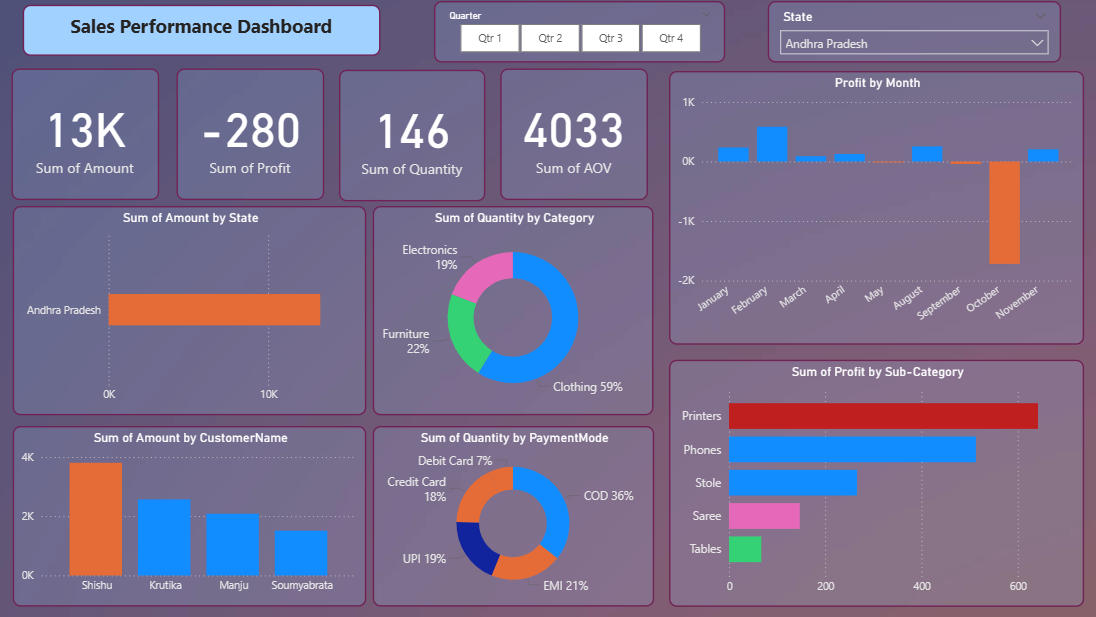

Layout of this report page (visuals, bound fields, positions):
{"tool":"powerbi","page":{"name":"Page 1","canvas":[1280,720],"ordinal":0},"visuals":[{"type":"columnChart","title":"Profit by Month","fields":{"Category":["Orders.Order Date.Variation.Date Hierarchy.Month"],"Y":["Sum(Details.Profit)"]},"box":[765,86,474,313],"z":0},{"type":"barChart","fields":{"Y":["Sum(Details.Profit)"],"Category":["Details.Sub-Category"]},"box":[765,415,474,282],"z":1000},{"type":"donutChart","fields":{"Category":["Details.Category"],"Y":["Sum(Details.Quantity)"]},"box":[427.4,240,321.1,238.9],"z":2000},{"type":"donutChart","fields":{"Y":["Sum(Details.Quantity)"],"Category":["Details.PaymentMode"]},"box":[427.6,491.2,321.2,206.4],"z":3000},{"type":"card","fields":{"Values":["Sum(Details.Amount)"]},"box":[14.3,82.9,168.6,150],"z":4000},{"type":"card","fields":{"Values":["Sum(Details.Quantity)"]},"box":[388.8,83.8,167.5,150],"z":5000},{"type":"card","fields":{"Values":["Sum(Details.Profit)"]},"box":[202.5,82.5,168.8,150],"z":6000},{"type":"card","fields":{"Values":["Sum(Details.AOV)"]},"box":[572.5,83.1,168.8,150],"z":7000},{"type":"barChart","fields":{"Category":["Orders.State"],"Y":["Sum(Details.Amount)"]},"box":[15.3,240,403.7,238.9],"z":8000},{"type":"columnChart","fields":{"Category":["Orders.CustomerName"],"Y":["Sum(Details.Amount)"]},"box":[15,491.2,403.8,206.2],"z":9000},{"type":"textbox","box":[27.3,10,408.7,58],"z":10000},{"type":"slicer","fields":{"Values":["Orders.Order Date.Variation.Date Hierarchy.Quarter"]},"box":[497.5,5.6,333.1,70.6],"z":11000},{"type":"slicer","fields":{"Values":["Orders.State"]},"box":[878.8,6.2,335,70],"z":12000}]}

Visuals, with their boxes in screenshot pixels (x1, y1, x2, y2), scaled from the page's 1280x720 canvas onto the 1096x617 screenshot:
"Profit by Month" columnChart: 655 74 1061 342
barChart - Sum(Details.Profit) x Details.Sub-Category: 655 356 1061 597
donutChart - Details.Category x Sum(Details.Quantity): 366 206 641 410
donutChart - Sum(Details.Quantity) x Details.PaymentMode: 366 421 641 598
card - Sum(Details.Amount): 12 71 157 200
card - Sum(Details.Quantity): 333 72 476 200
card - Sum(Details.Profit): 173 71 318 199
card - Sum(Details.AOV): 490 71 635 200
barChart - Orders.State x Sum(Details.Amount): 13 206 359 410
columnChart - Orders.CustomerName x Sum(Details.Amount): 13 421 359 598
textbox: 23 9 373 58
slicer - Orders.Order Date.Variation.Date Hierarchy.Quarter: 426 5 711 65
slicer - Orders.State: 752 5 1039 65
